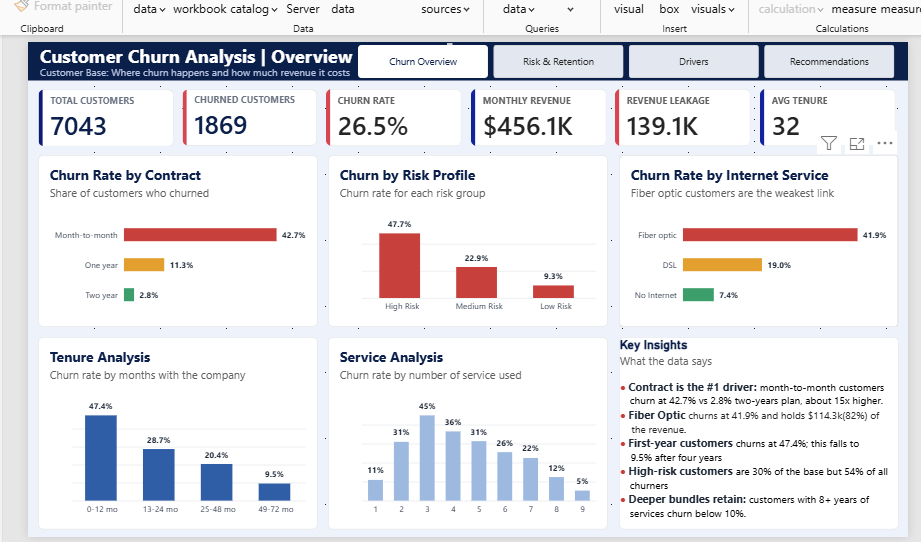

The page's visual inventory and layout, read from the dashboard file:
{"tool":"powerbi","page":{"name":"Churn Overview","canvas":[1280,720],"ordinal":0},"visuals":[{"type":"shape","box":[0,0,1280,56],"z":0},{"type":"textbox","box":[18,1,600,34],"z":1000},{"type":"pageNavigator","box":[480,4,780,48],"z":2000},{"type":"clusteredBarChart","title":"Churn Rate by Contract","fields":{"Category":["Churn.Contract"],"Y":["Churn.Churn Rate"]},"box":[14,165,407,250],"z":3000},{"type":"textbox","box":[18,34,600,20],"z":4000},{"type":"shape","box":[14,68,197,83],"z":5000},{"type":"shape","box":[224,68,197,83],"z":6000},{"type":"shape","box":[434,68,197,83],"z":7000},{"type":"shape","box":[644,68,197,83],"z":8000},{"type":"shape","box":[1064,68,197,83],"z":9000},{"type":"shape","box":[854,68,197,83],"z":10000},{"type":"cardVisual","fields":{"Data":["Churn.Total Customers"]},"box":[14,68,197,83],"z":11000},{"type":"cardVisual","fields":{"Data":["Churn.Churn Rate"]},"box":[434,68,197,83],"z":12000},{"type":"cardVisual","fields":{"Data":["Churn.Monthly Revenue"]},"box":[644,68,197,83],"z":13000},{"type":"cardVisual","fields":{"Data":["Churn.Revenue Leakage"]},"box":[854,68,197,83],"z":14000},{"type":"cardVisual","fields":{"Data":["Churn.Churned Customers"]},"box":[224,68,197,83],"z":15000},{"type":"cardVisual","fields":{"Data":["Churn.Avg Tenure"]},"box":[1064,68,197,83],"z":16000},{"type":"clusteredColumnChart","title":"Churn by Risk Profile","fields":{"Category":["Churn.RiskProfile"],"Y":["Churn.Churn Rate"]},"box":[437,165,407,250],"z":17000},{"type":"clusteredBarChart","title":"Churn Rate by Internet Service","fields":{"Category":["Churn.InternetService"],"Y":["Churn.Churn Rate"]},"box":[859,165,407,250],"z":18000},{"type":"clusteredColumnChart","title":"Tenure Analysis","fields":{"Category":["Churn.TenureBrand"],"Y":["Churn.Churn Rate"]},"box":[14,429,407,280],"z":19000},{"type":"clusteredColumnChart","title":"Service Analysis","fields":{"Category":["Churn.TotalServices"],"Y":["Churn.Churn Rate"]},"box":[437,429,407,280],"z":20000},{"type":"textbox","title":"Key Insights","box":[859,429,407,280],"z":21000}]}

Visuals, with their boxes on the page's 1280x720 design canvas (x1, y1, x2, y2). These are canvas units, not pixel positions in the 921x542 screenshot, which may show the page scaled, cropped or inside an application window:
shape: x1=0 y1=0 x2=1280 y2=56
textbox: x1=18 y1=1 x2=618 y2=35
pageNavigator: x1=480 y1=4 x2=1260 y2=52
"Churn Rate by Contract" clusteredBarChart: x1=14 y1=165 x2=421 y2=415
textbox: x1=18 y1=34 x2=618 y2=54
shape: x1=14 y1=68 x2=211 y2=151
shape: x1=224 y1=68 x2=421 y2=151
shape: x1=434 y1=68 x2=631 y2=151
shape: x1=644 y1=68 x2=841 y2=151
shape: x1=1064 y1=68 x2=1261 y2=151
shape: x1=854 y1=68 x2=1051 y2=151
cardVisual - Churn.Total Customers: x1=14 y1=68 x2=211 y2=151
cardVisual - Churn.Churn Rate: x1=434 y1=68 x2=631 y2=151
cardVisual - Churn.Monthly Revenue: x1=644 y1=68 x2=841 y2=151
cardVisual - Churn.Revenue Leakage: x1=854 y1=68 x2=1051 y2=151
cardVisual - Churn.Churned Customers: x1=224 y1=68 x2=421 y2=151
cardVisual - Churn.Avg Tenure: x1=1064 y1=68 x2=1261 y2=151
"Churn by Risk Profile" clusteredColumnChart: x1=437 y1=165 x2=844 y2=415
"Churn Rate by Internet Service" clusteredBarChart: x1=859 y1=165 x2=1266 y2=415
"Tenure Analysis" clusteredColumnChart: x1=14 y1=429 x2=421 y2=709
"Service Analysis" clusteredColumnChart: x1=437 y1=429 x2=844 y2=709
"Key Insights" textbox: x1=859 y1=429 x2=1266 y2=709
